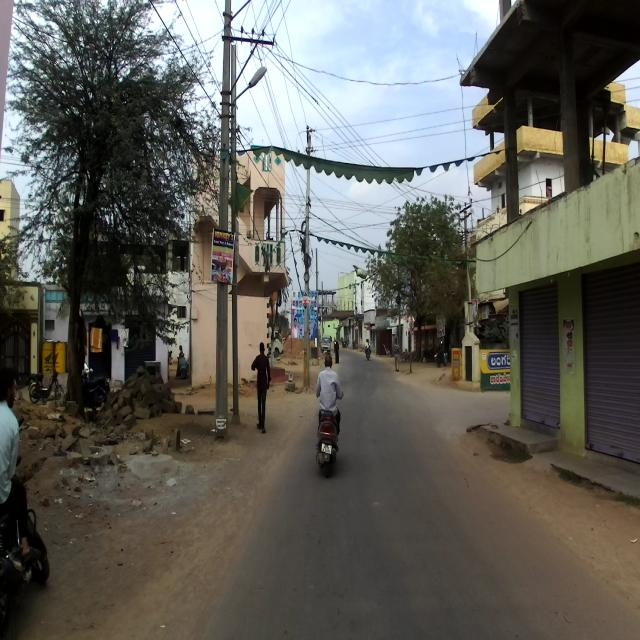electric pole ahead at: (212, 0, 249, 443)
motorcycle ahead at: (310, 405, 346, 482)
person ahead at: (252, 331, 274, 436)
stones ahead at: (120, 360, 181, 426)
tree ahead at: (60, 147, 98, 400)
